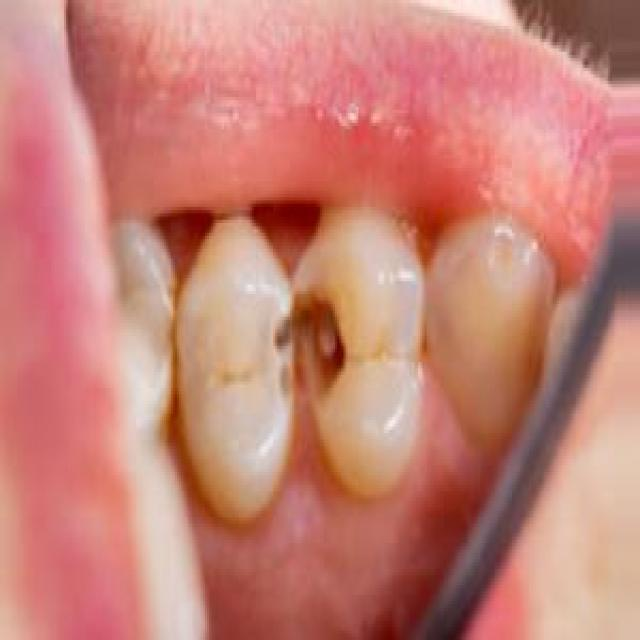caries: (244, 267, 370, 426)
